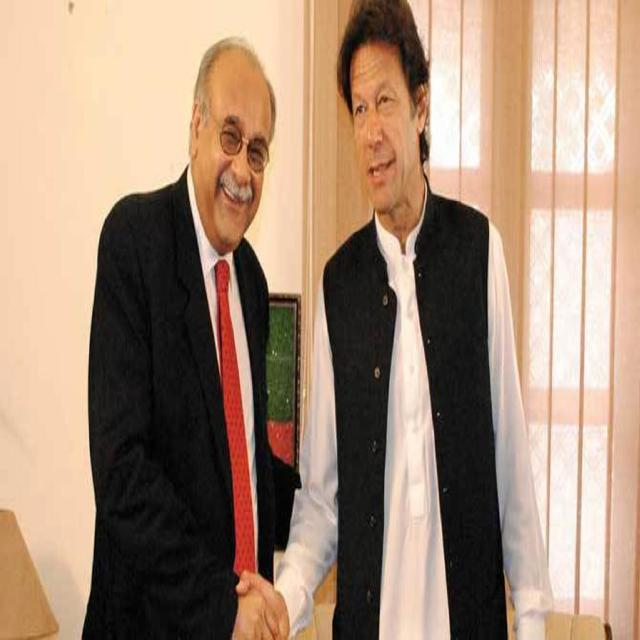Face: (199, 50, 289, 256), (349, 39, 430, 231)
